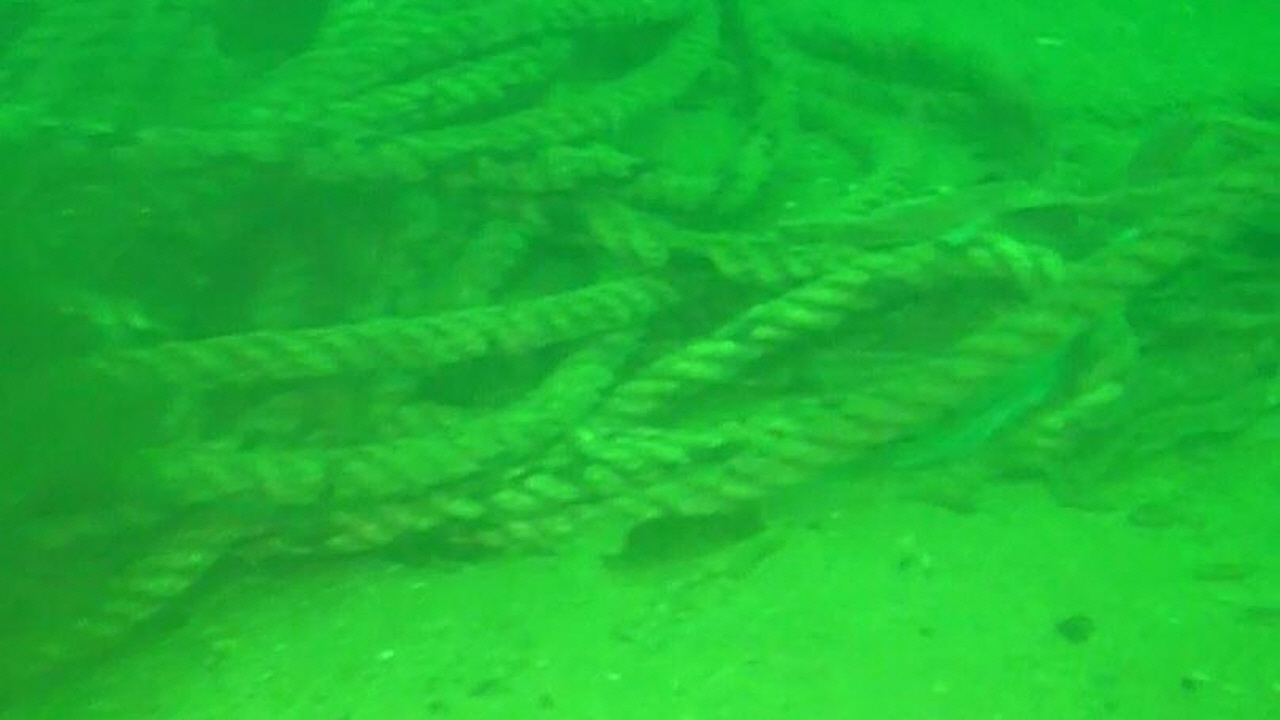bundle of ropes: (38, 0, 1280, 662)
